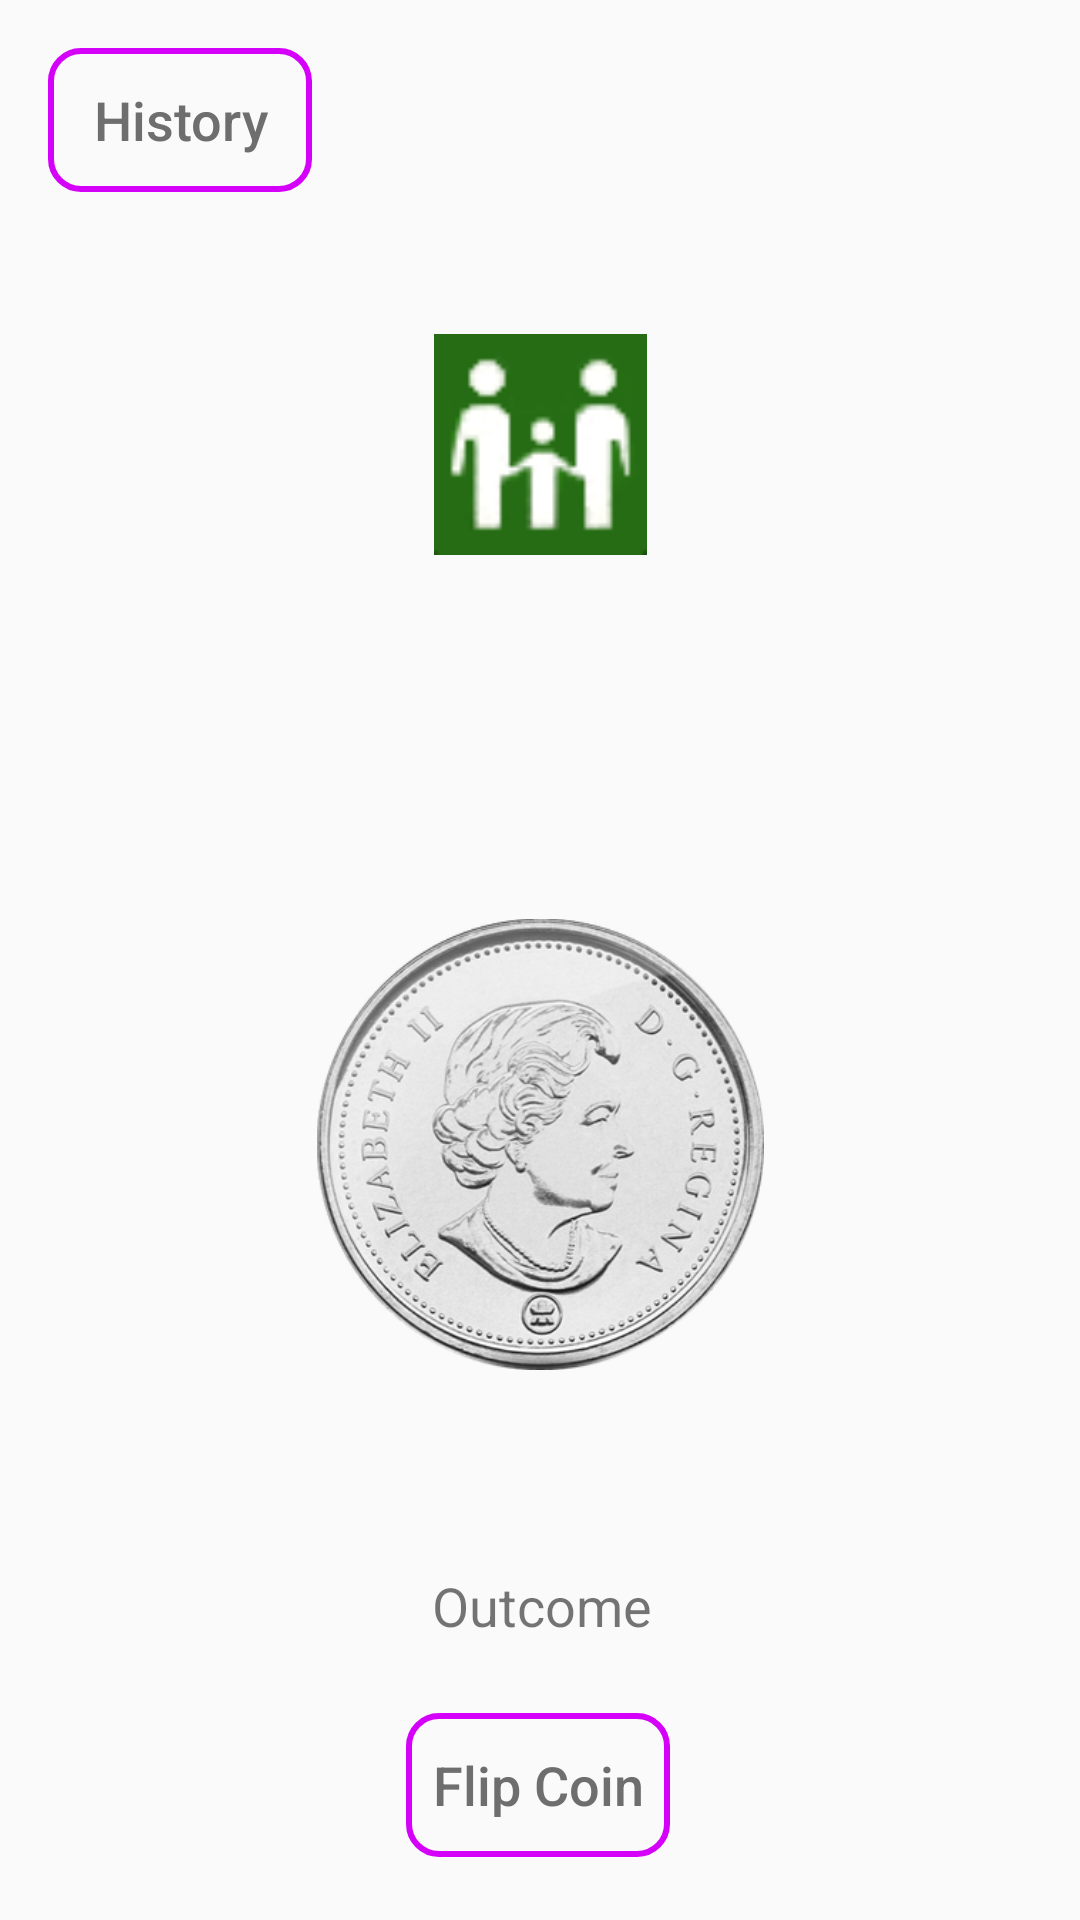

Icons on this 1080px x 1920px Android screen, each with its box as (left=x1, top=y1, right=x2, bottom=y2):
family: (left=434, top=334, right=647, bottom=555)
